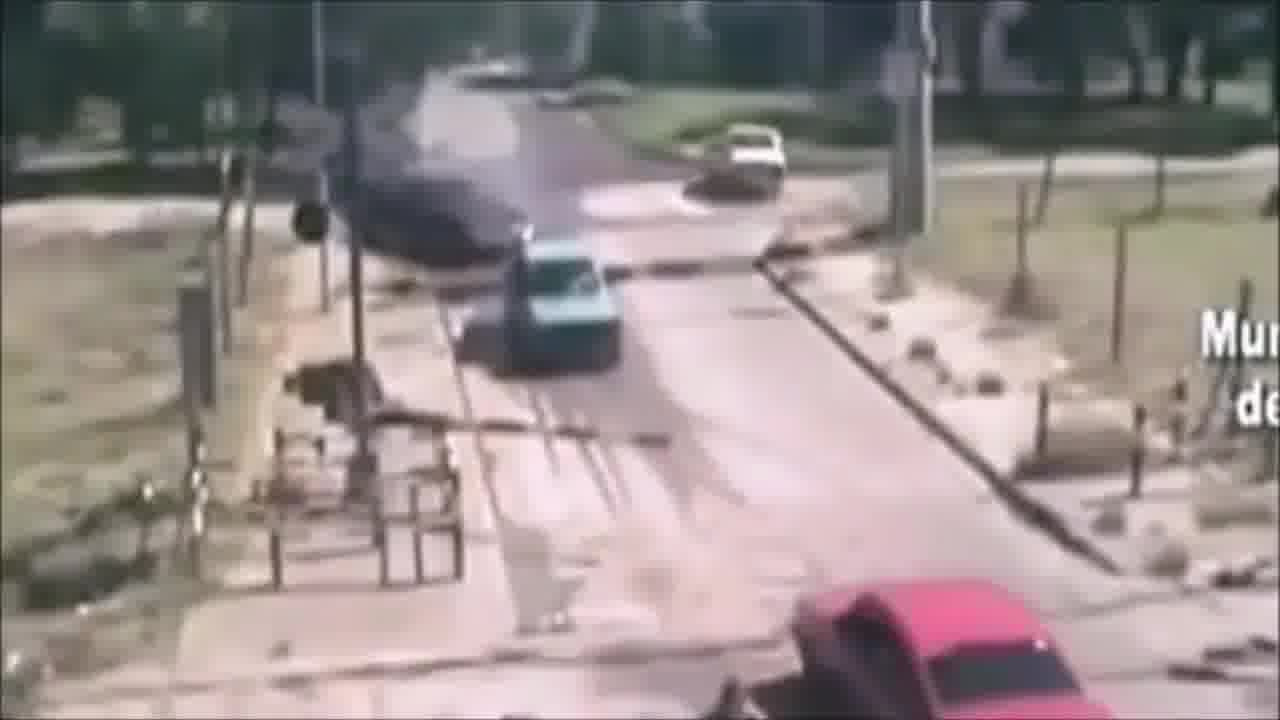crossing railway track: (763, 520, 1156, 720), (654, 586, 789, 720)
